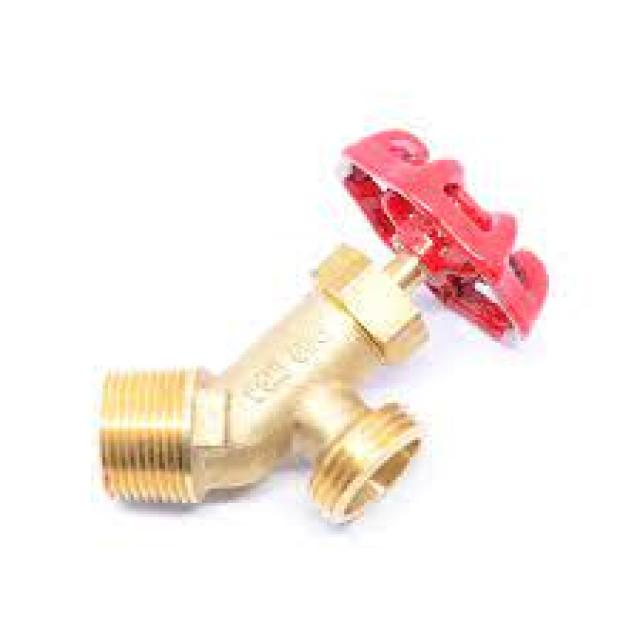Wheel Handle Valve Threaded: (323, 106, 560, 339)
